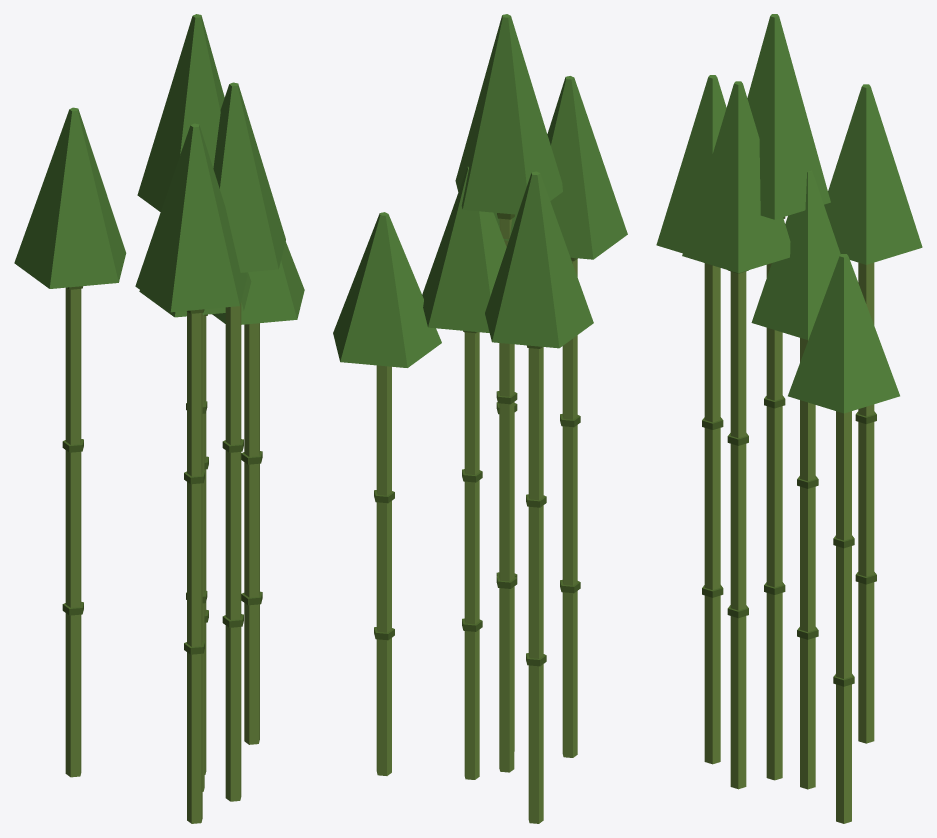
The model's file is bamboo-clump.glb.
3 views of the same model, side by side, from view 1: azimuth 30°, elevation 25°; view 2: azimuth 150°, elevation 25°; view 3: azimuth 270°, elevation 25° (orthographic). The views are drawn at different scales.
Parts seen in each view (by area): view 1: bamboo-clump; view 2: bamboo-clump; view 3: bamboo-clump.
Part boxes in pixels (left/top/right/bottom): bamboo-clump: left=14, top=14, right=304, bottom=823; bamboo-clump: left=333, top=14, right=627, bottom=823; bamboo-clump: left=656, top=14, right=922, bottom=823.
Bounding box in the file's own units: 2.51 × 7.09 × 2.25.
